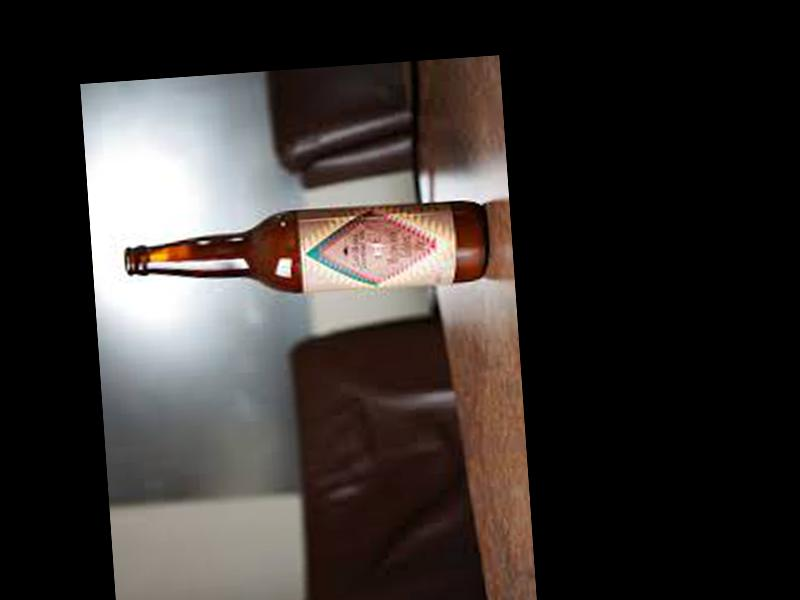Beer: (124, 198, 489, 302)
